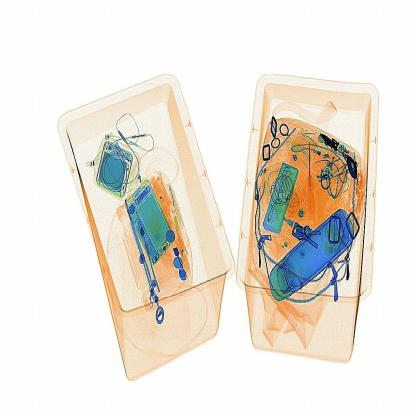wrench: (302, 123, 326, 228)
